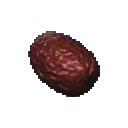gd: (8, 11, 116, 112)
